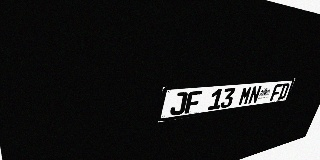plate: (158, 78, 295, 122)
